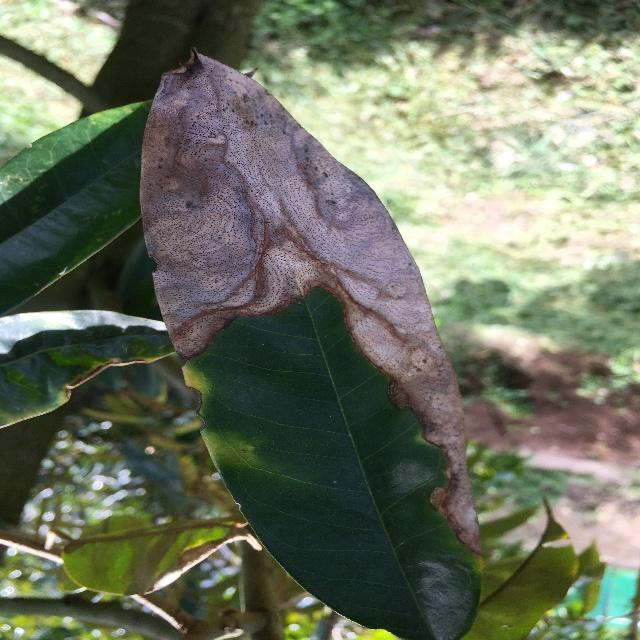Leaf Blight: (131, 42, 489, 640)
